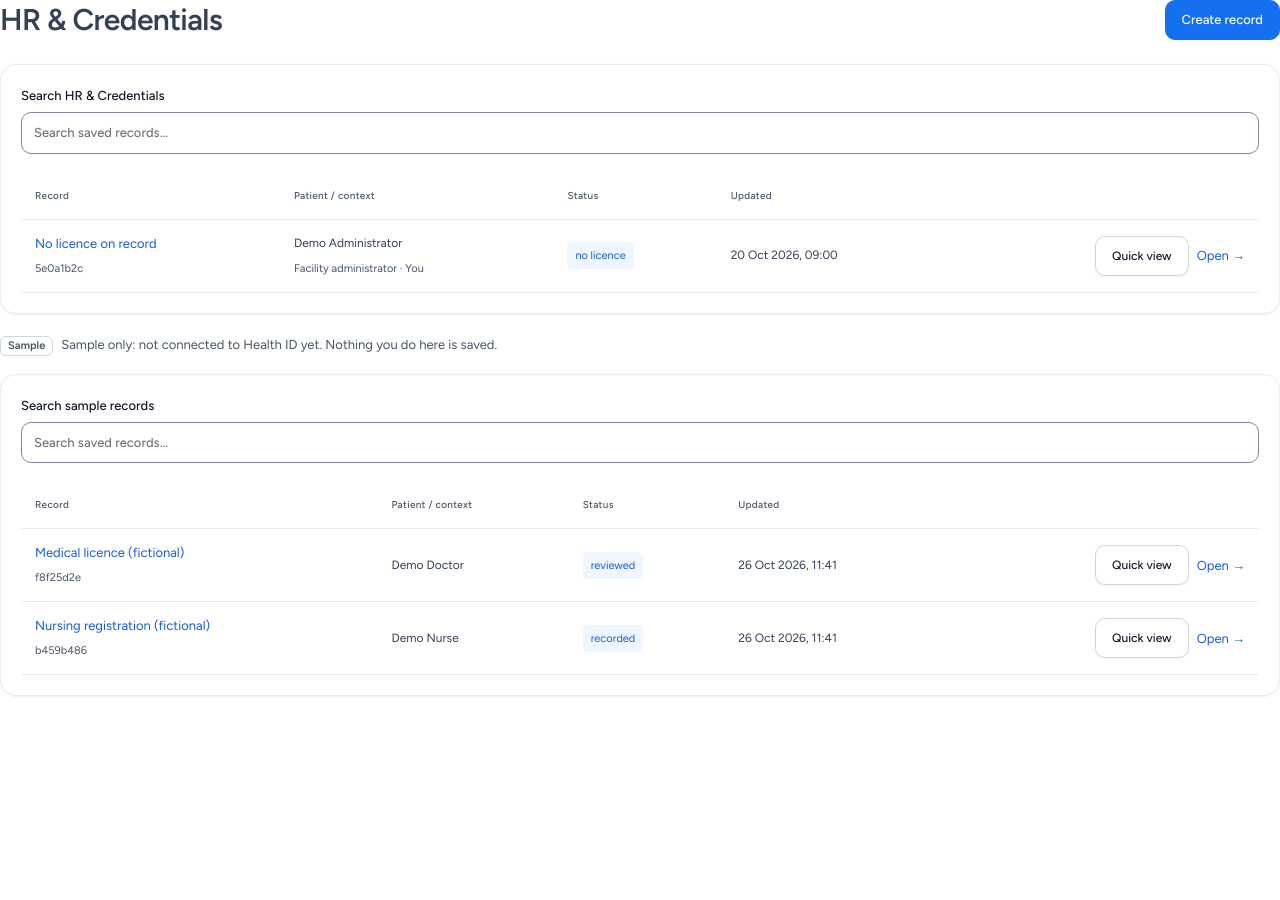
Test: the sample list › opens a sample record’s quick view
Expected: the button "No licence on record" is shown, [35,232,156,254]
Click the button "Quick view" in the row of "f8f25d2e": (1142, 565) [1095,545,1189,585]
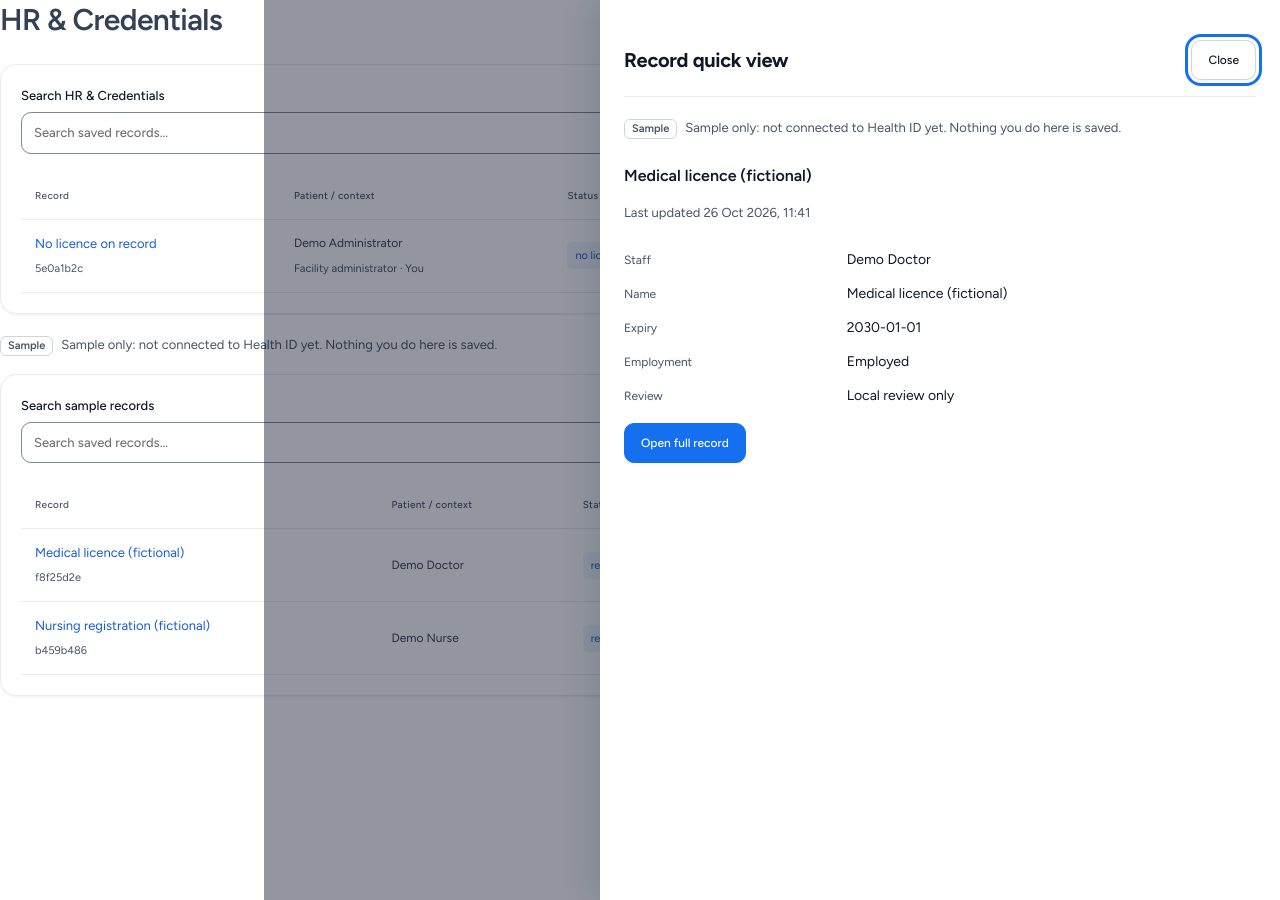
Now the text "Sample only: not connected to Health ID yet. Nothing you do here is saved." is shown, box [624,117,1121,139]
Now the text "Local review only" is shown, box [847,387,954,404]
Click the button "Open full record": (685, 443) [624,423,746,463]
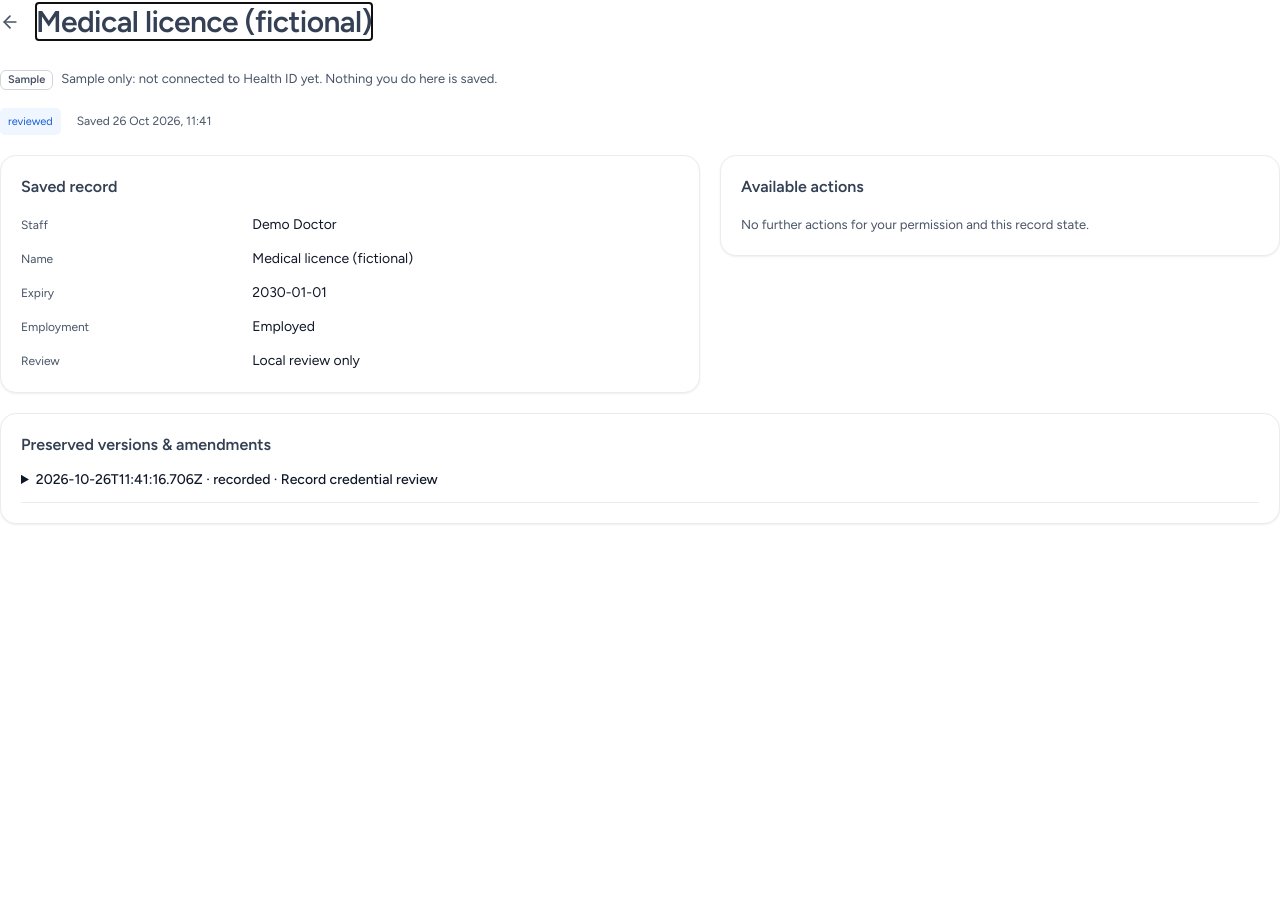
Now the heading "Medical licence (fictional)" is shown, box [36,4,372,40]
